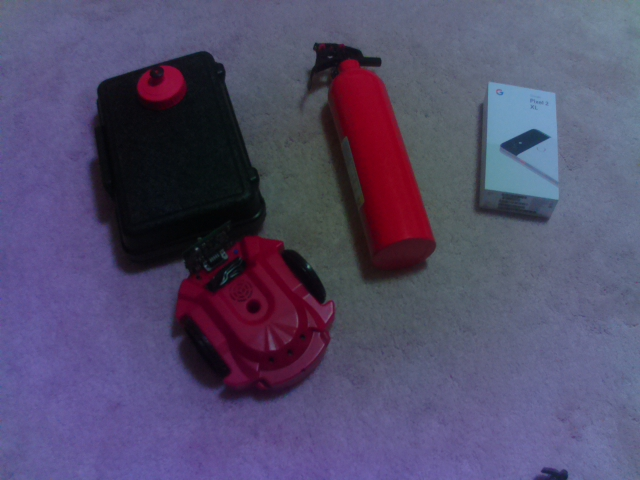chassis: (176, 234, 340, 395)
